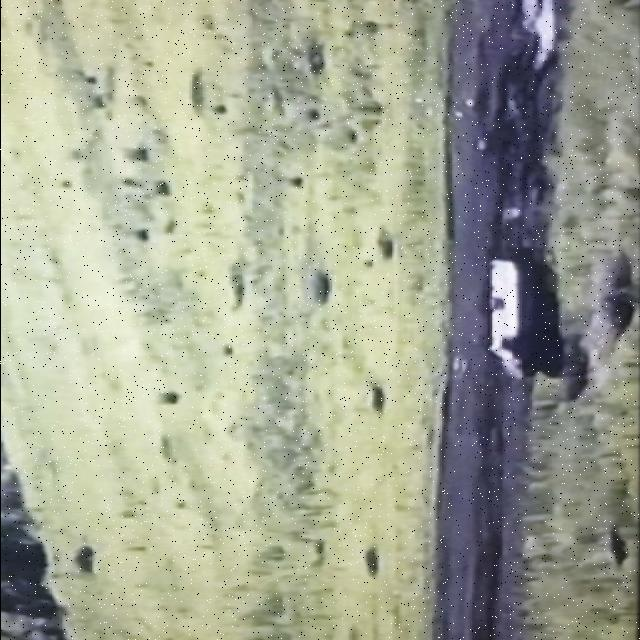APC-IFV: (465, 255, 551, 383)
